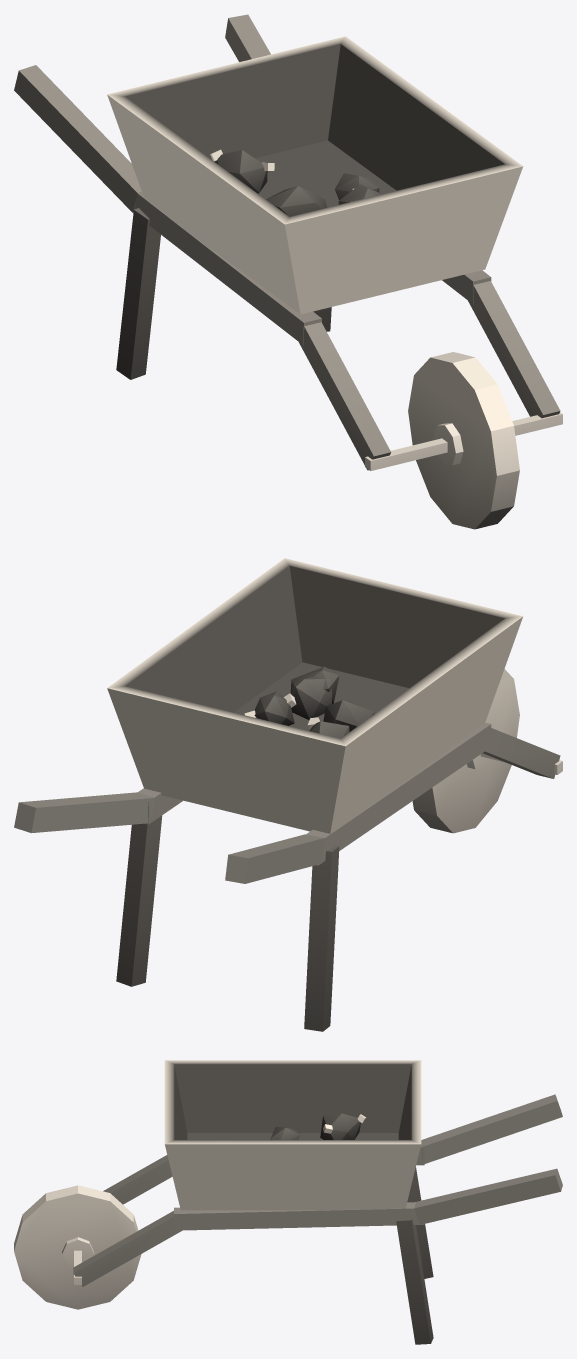
The model's file is SM_VKI_Prop_Mine_Wheelbarrow.fbx.
3 renders of one model, top to bottom at view 1: azimuth 30°, elevation 25°; view 2: azimuth 150°, elevation 25°; view 3: azimuth 270°, elevation 25°, orthographic. The views are drawn at different scales.
Visible parts, largest first — view 1: SM_VKI_Prop_Mine_Wheelbarrow.001; view 2: SM_VKI_Prop_Mine_Wheelbarrow.001; view 3: SM_VKI_Prop_Mine_Wheelbarrow.001.
Boxes of the visible parts, x1,y1,x2,y2 form: SM_VKI_Prop_Mine_Wheelbarrow.001: [14, 14, 562, 529]; SM_VKI_Prop_Mine_Wheelbarrow.001: [14, 558, 562, 1031]; SM_VKI_Prop_Mine_Wheelbarrow.001: [14, 1060, 562, 1344].
Bounding box in the file's own units: 0.62 × 0.7136 × 1.71.
